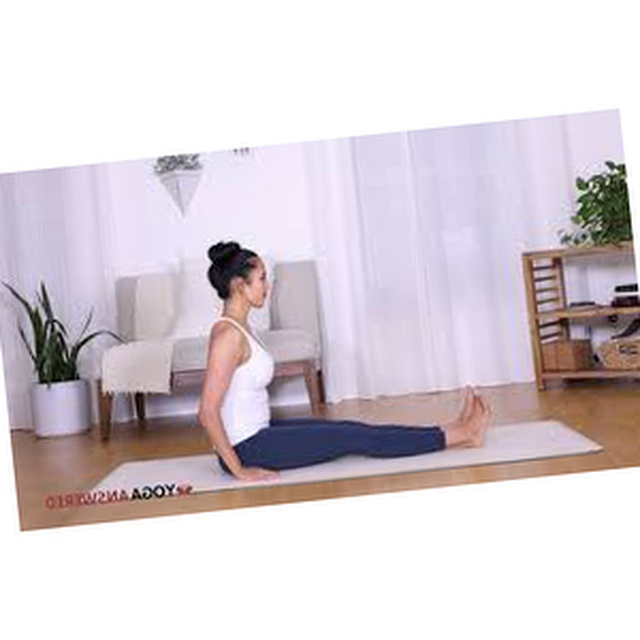Staff_Pose: (196, 240, 490, 483)
